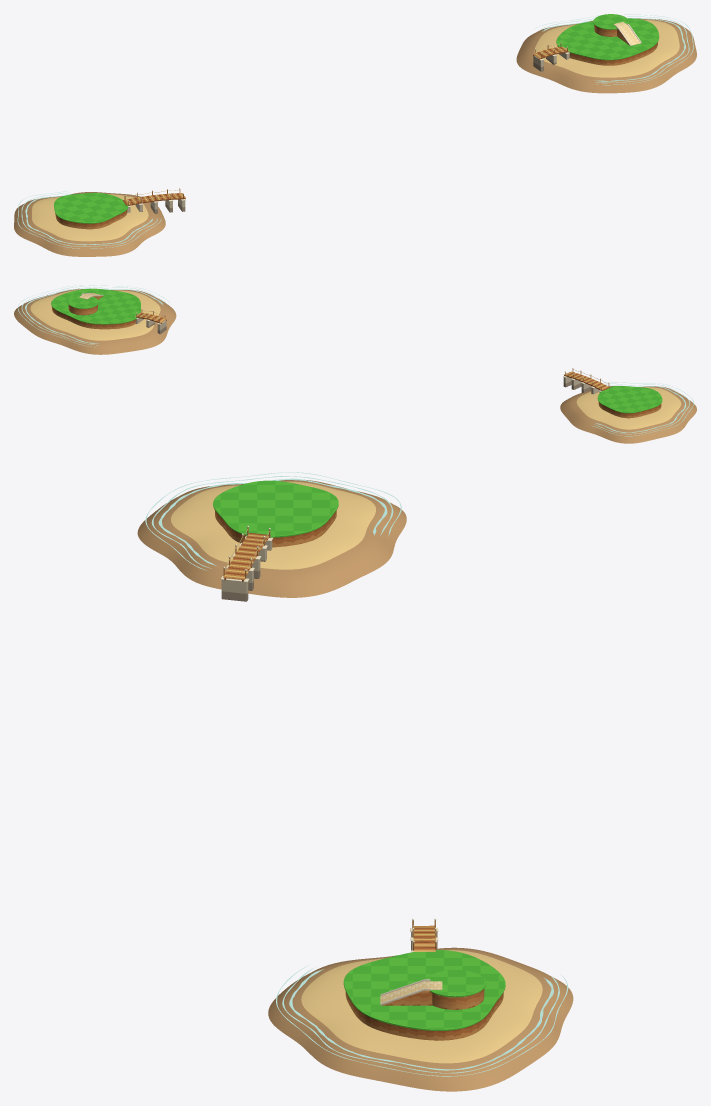
The model's file is kingdom_expansion.glb.
The picture shows the model from 3 angles, top to bottom: view 1: azimuth 30°, elevation 25°; view 2: azimuth 150°, elevation 25°; view 3: azimuth 270°, elevation 25°; orthographic projection. The views are drawn at different scales.
Parts seen in each view (by area): view 1: K_Exp_East_Isle, K_Exp_West_Isle, K_Exp_East_Terrace, K_Exp_West_Bridge, K_Exp_East_Bridge; view 2: K_Exp_East_Isle, K_Exp_West_Isle, K_Exp_West_Bridge, K_Exp_East_Terrace, K_Exp_East_Bridge; view 3: K_Exp_East_Isle, K_Exp_West_Isle, K_Exp_East_Terrace, K_Exp_West_Bridge.
Part boxes in pixels (left/top/right/bottom): K_Exp_East_Isle: left=516, top=14, right=696, bottom=93; K_Exp_West_Isle: left=14, top=191, right=165, bottom=256; K_Exp_East_Terrace: left=593, top=14, right=641, bottom=45; K_Exp_West_Bridge: left=123, top=188, right=185, bottom=213; K_Exp_East_Bridge: left=533, top=42, right=569, bottom=71; K_Exp_East_Isle: left=14, top=285, right=176, bottom=354; K_Exp_West_Isle: left=560, top=382, right=696, bottom=443; K_Exp_West_Bridge: left=563, top=368, right=610, bottom=394; K_Exp_East_Terrace: left=67, top=293, right=103, bottom=315; K_Exp_East_Bridge: left=135, top=309, right=166, bottom=334; K_Exp_East_Isle: left=268, top=947, right=573, bottom=1091; K_Exp_West_Isle: left=137, top=472, right=406, bottom=597; K_Exp_East_Terrace: left=380, top=969, right=486, bottom=1009; K_Exp_West_Bridge: left=220, top=525, right=272, bottom=601.
Bounding box in the file's own units: 158 × 5.56 × 47.76.
Materials: 15 (4 with a texture image).
